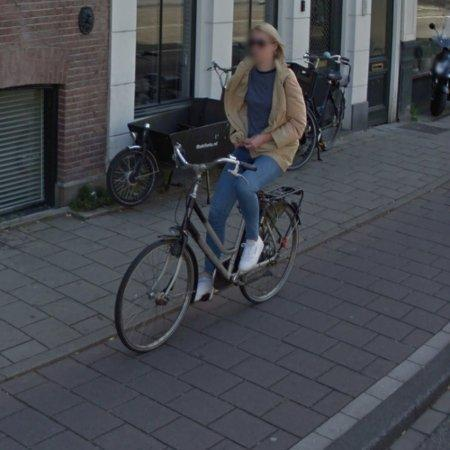bicycles: (115, 145, 302, 352)
